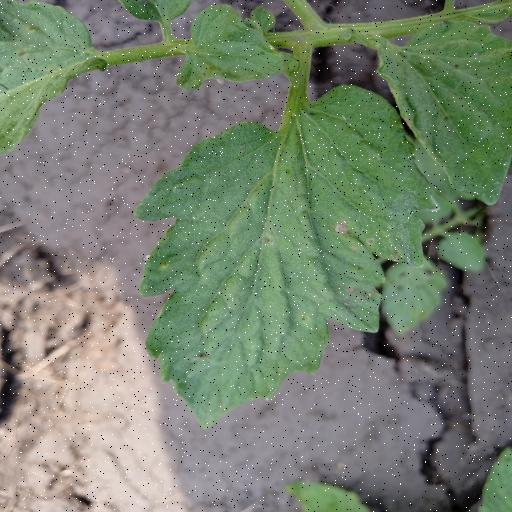Tomato_Mildiou: (121, 72, 437, 436)
